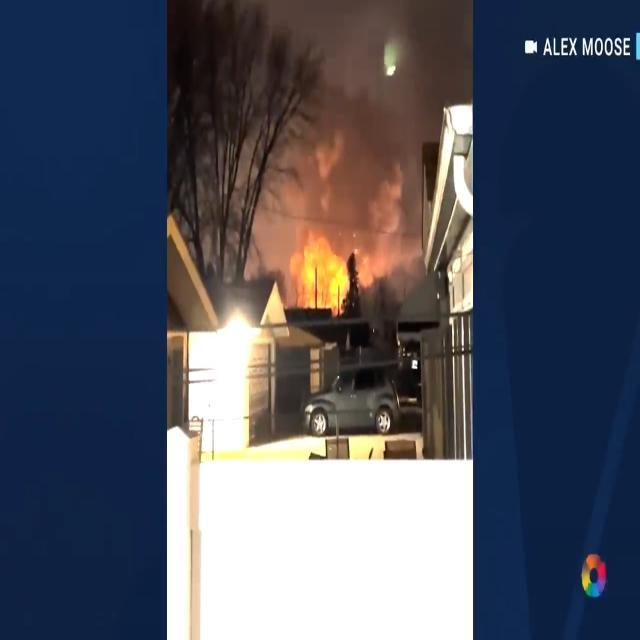fire: (290, 230, 350, 310), (580, 552, 604, 604)
